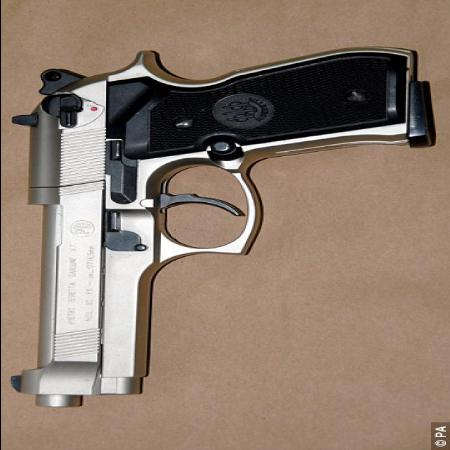Pistol: (5, 46, 434, 414)
